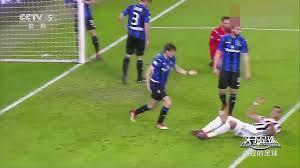Fall-Detected: (188, 94, 288, 141)
